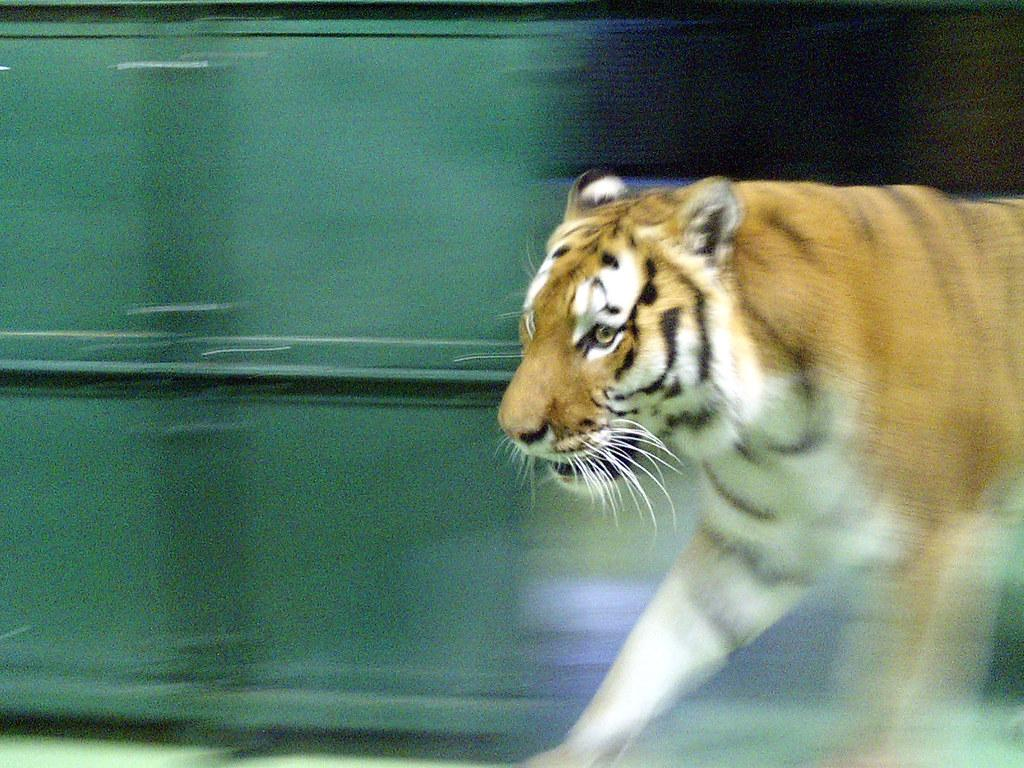tiger: (479, 166, 1023, 766)
